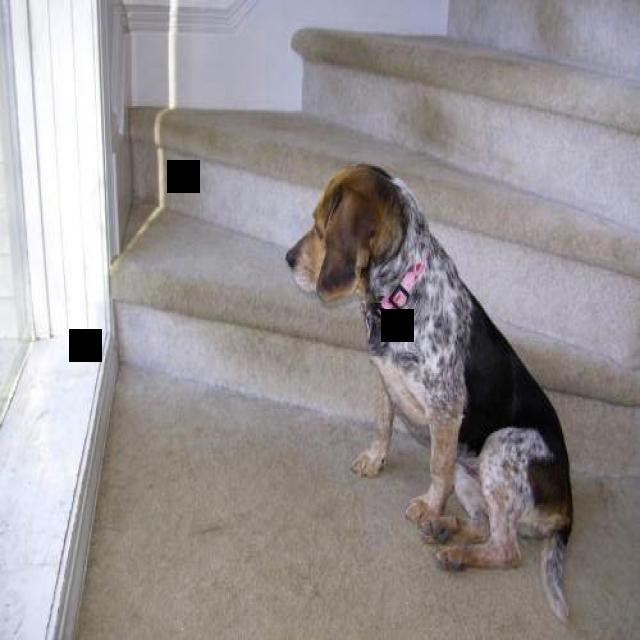adult_dog: (277, 162, 584, 640)
